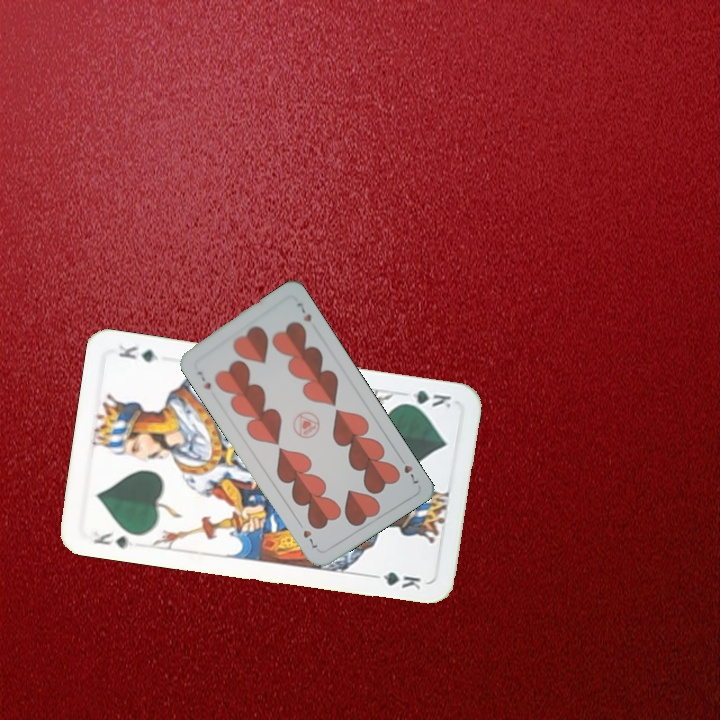GK: (396, 385, 454, 411), (89, 527, 135, 551)
H7: (394, 451, 421, 486), (193, 366, 214, 392)
